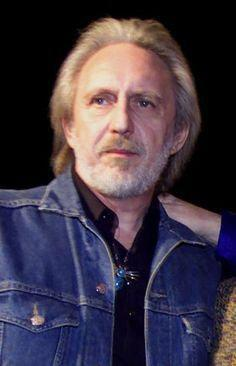Drunk: (82, 49, 165, 196)
